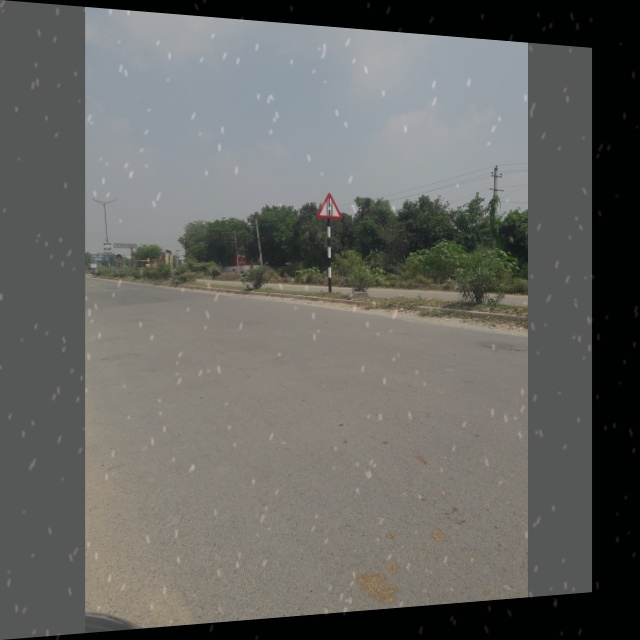Gap_in_Median: (311, 187, 349, 223)
